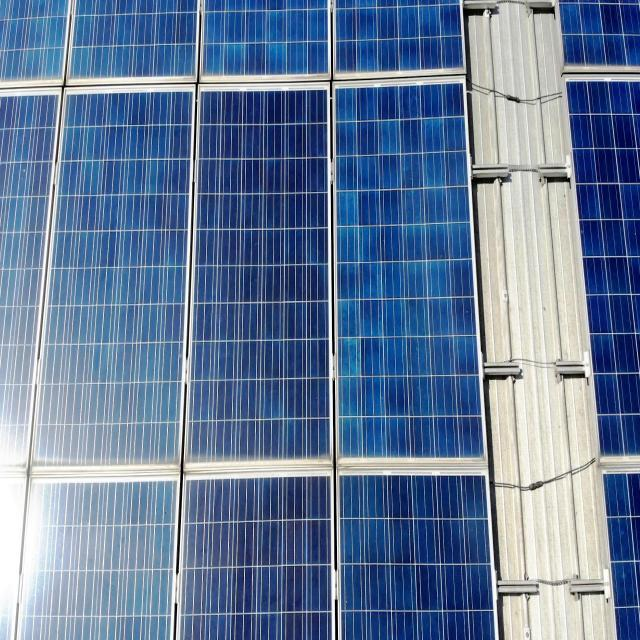no faulty: (16, 480, 498, 638), (33, 82, 188, 470), (331, 77, 484, 470), (186, 82, 335, 472)
